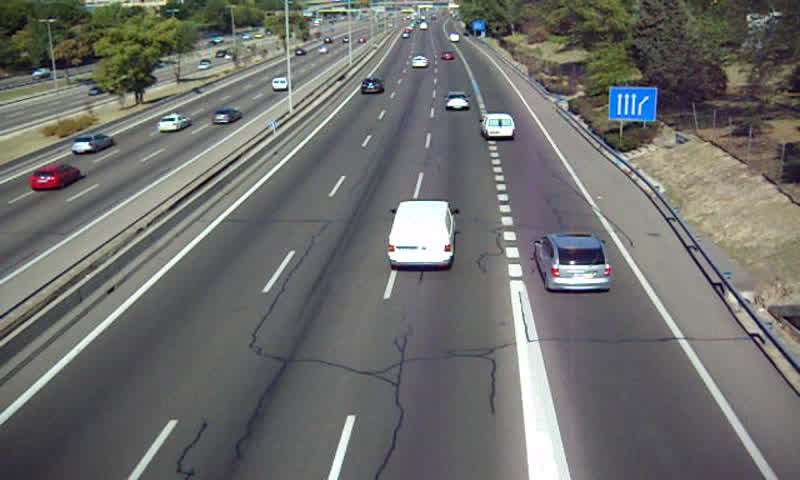car: (537, 234, 610, 291), (442, 91, 473, 112), (360, 77, 383, 96), (410, 54, 428, 68)
van: (389, 200, 454, 270), (480, 114, 516, 139)
